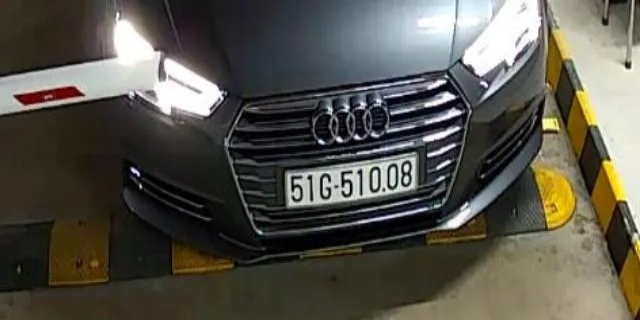bien_so: (287, 159, 415, 202)
